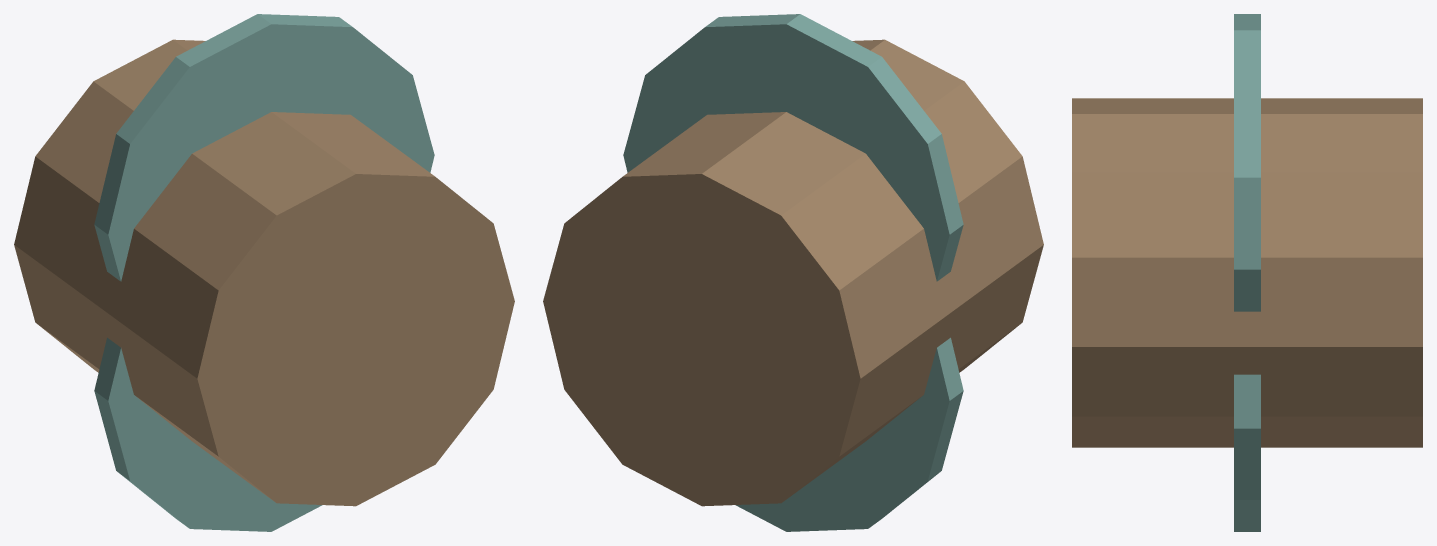
Rendered from barrel_copper_hoop.glb.
The picture shows the model from 3 angles, left to right: view 1: azimuth 30°, elevation 25°; view 2: azimuth 150°, elevation 25°; view 3: azimuth 270°, elevation 25°; orthographic projection. The views are drawn at different scales.
Parts seen in each view (by area): view 1: part_0, part_2, part_1; view 2: part_0, part_2, part_1; view 3: part_0, part_2, part_1.
Boxes of the visible parts, box(x1,y1,x2,y2) form: part_0: box(14, 39, 514, 506); part_2: box(94, 14, 434, 281); part_1: box(94, 337, 322, 531); part_0: box(543, 39, 1043, 506); part_2: box(623, 14, 963, 281); part_1: box(735, 337, 963, 531); part_0: box(1072, 98, 1422, 447); part_2: box(1234, 14, 1260, 311); part_1: box(1234, 374, 1260, 531).
Bounding box in the file's own units: 0.74 × 1.1 × 0.72.
